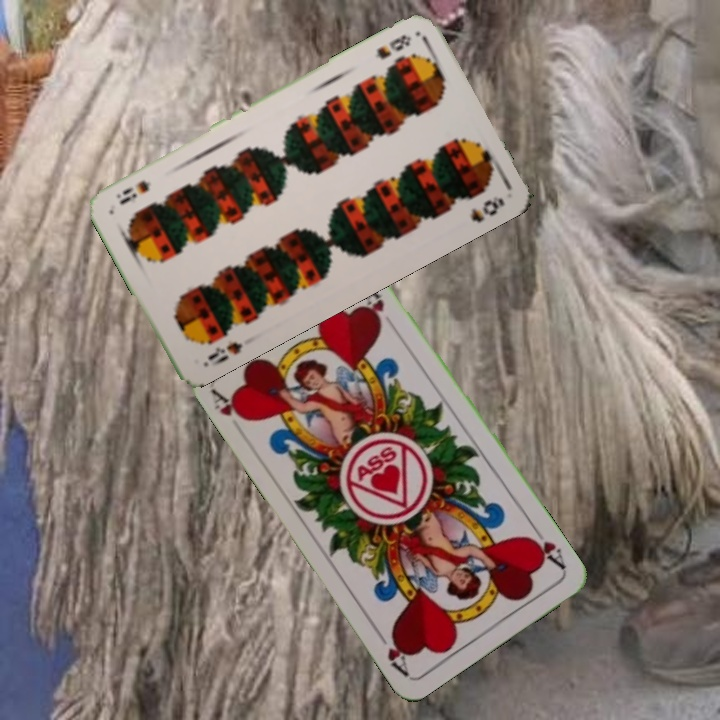HA: (523, 521, 568, 572), (208, 386, 252, 425)
S8: (371, 30, 414, 62), (203, 338, 245, 369)
